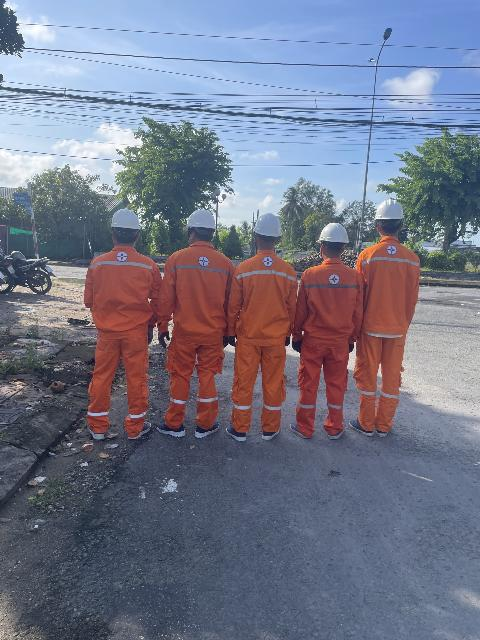gloves: (282, 331, 305, 355), (219, 331, 239, 351), (153, 331, 175, 348), (146, 325, 154, 348), (349, 338, 358, 358)
helmet: (369, 189, 413, 229), (176, 203, 228, 236), (307, 217, 354, 248), (248, 207, 286, 242), (103, 207, 147, 234)
shoes: (251, 416, 284, 445), (343, 414, 376, 440), (285, 417, 316, 443), (220, 416, 249, 443), (81, 416, 112, 441), (157, 416, 186, 440), (376, 413, 396, 446), (320, 419, 347, 443), (125, 421, 155, 441), (191, 421, 226, 438)
